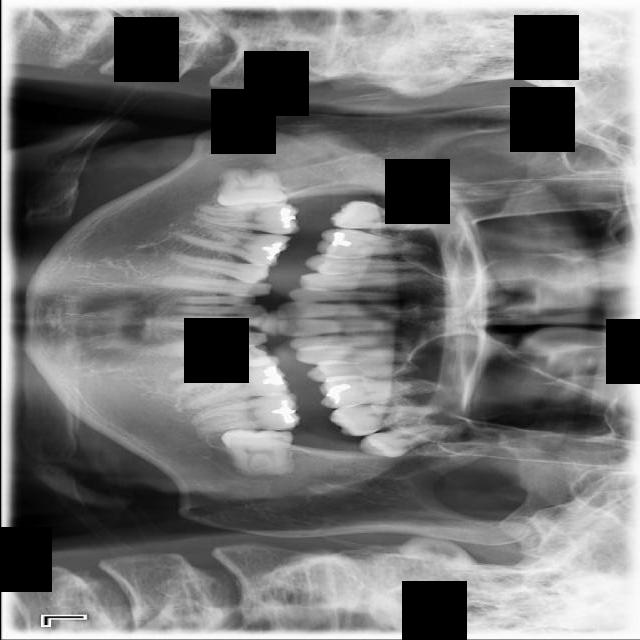52: (254, 385, 310, 437), (240, 352, 291, 404), (311, 225, 372, 264), (317, 375, 370, 407), (242, 234, 292, 267), (257, 201, 301, 235)
BioHorizons Implant: (329, 402, 444, 437)
BioLife Implant: (357, 417, 462, 463)
Biomet 3i Implant: (218, 427, 293, 477)
Blue Sky Bio Implant: (189, 390, 304, 433)
Caries: (328, 201, 434, 231)
Implant: (194, 202, 300, 235)
Keystone Dental Implant: (216, 165, 287, 209)
